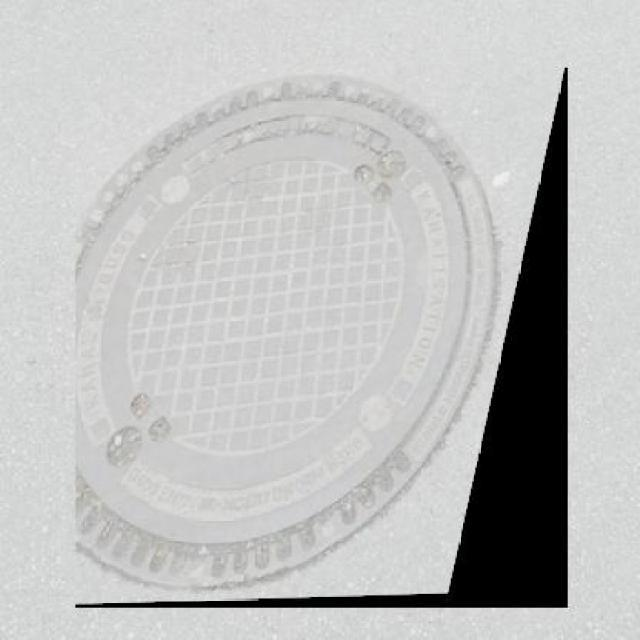Manhole: (77, 66, 570, 606)
